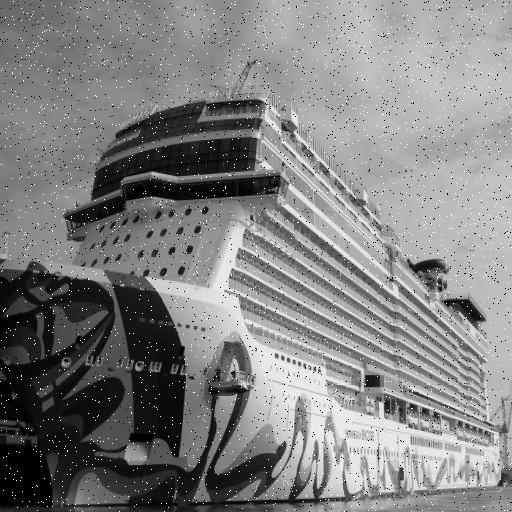cruises: (1, 75, 512, 509)
